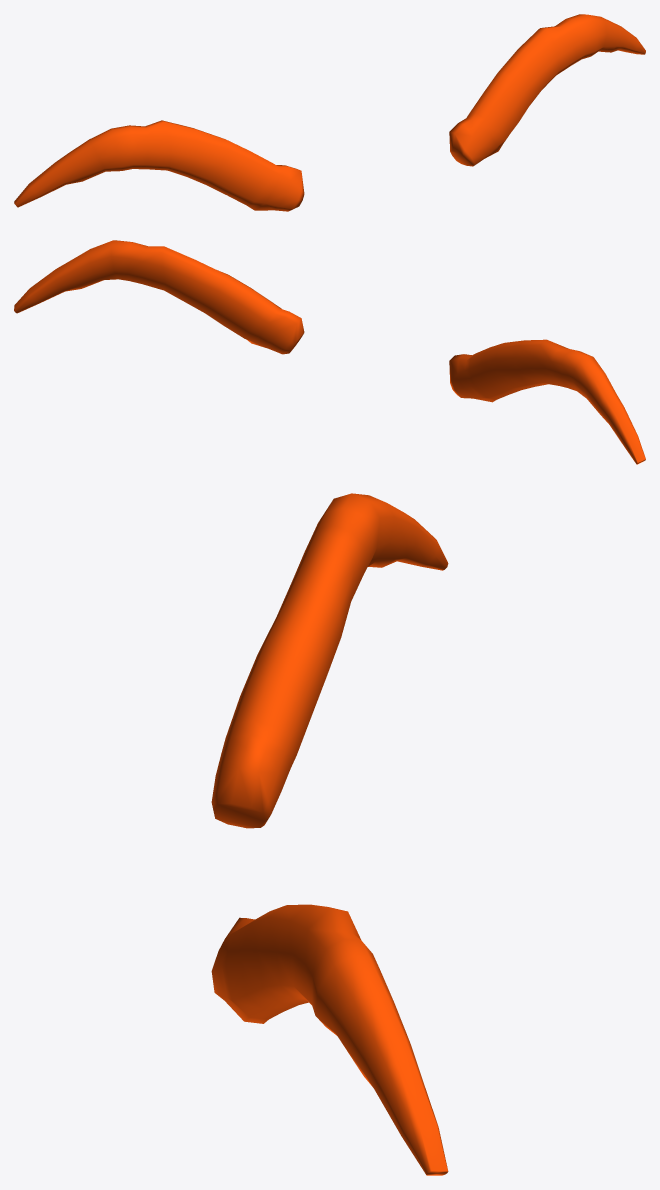
File: Eyebrows_18_06.fbx
3 renders of one model, top to bottom at view 1: azimuth 30°, elevation 25°; view 2: azimuth 150°, elevation 25°; view 3: azimuth 270°, elevation 25°, orthographic. The views are drawn at different scales.
Parts seen in each view (by area): view 1: Eyebrows_18_06; view 2: Eyebrows_18_06; view 3: Eyebrows_18_06.
Boxes of the visible parts, <box> form: Eyebrows_18_06: <box>14,14,645,211</box>; Eyebrows_18_06: <box>14,240,645,464</box>; Eyebrows_18_06: <box>211,493,448,1175</box>.
Bounding box in the file's own units: 18.22 × 2.68 × 2.96.
